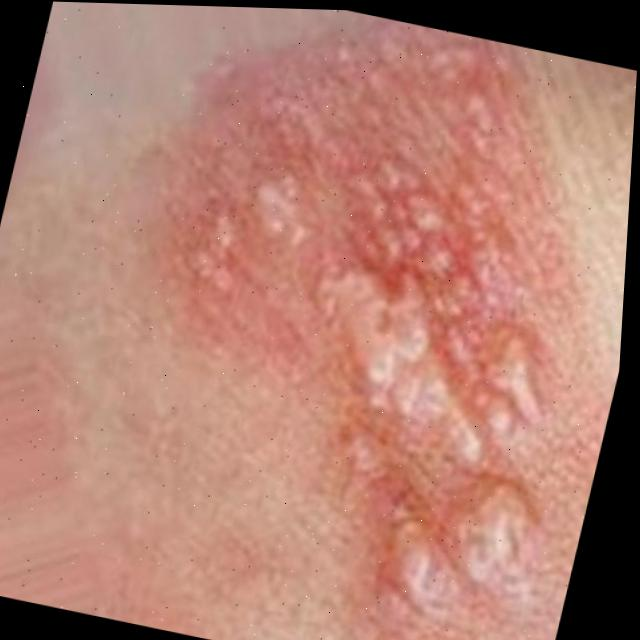Shingles: (129, 7, 640, 640)
